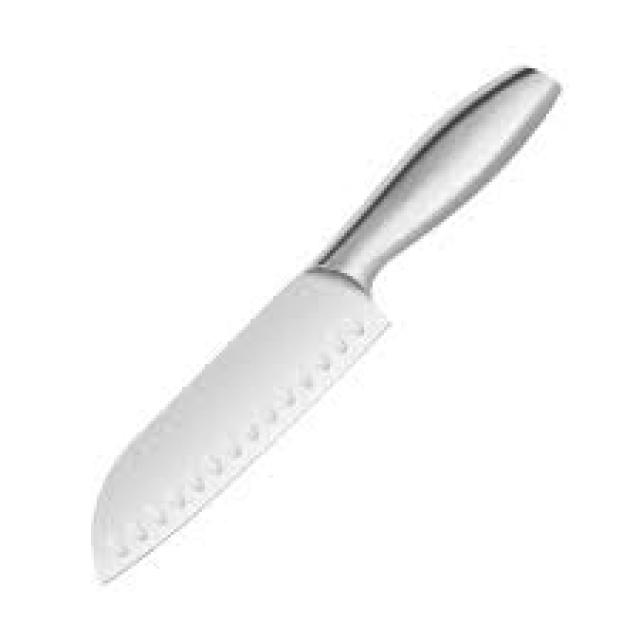Knife: (89, 60, 560, 583)
